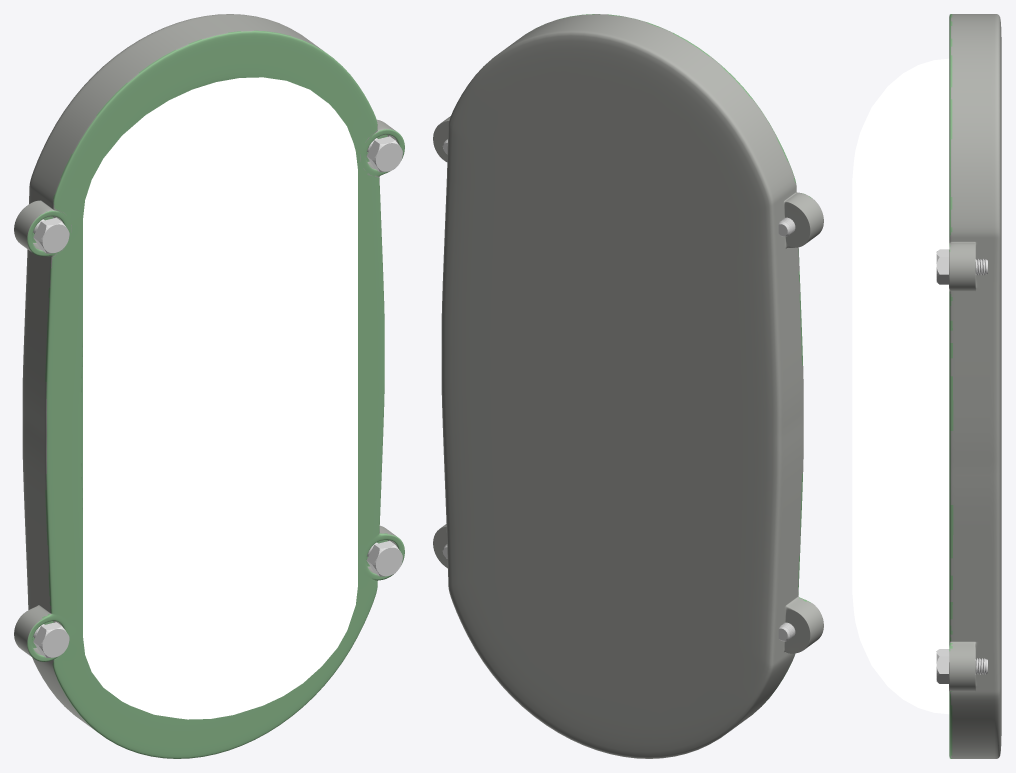
Rendered from wall_light_with_texture.glb.
The picture shows the model from 3 angles, left to right: view 1: azimuth 30°, elevation 25°; view 2: azimuth 150°, elevation 25°; view 3: azimuth 270°, elevation 25°; orthographic projection.
Parts seen in each view (by area): view 1: Roundcube_1, Circle_0, Bolt_5; view 2: Circle_0, Bolt_5; view 3: Roundcube_1, Circle_0, Bolt_5.
Boxes of the visible parts, x1,y1,x2,y2 form: Roundcube_1: (83, 77, 357, 719); Circle_0: (14, 14, 404, 758); Bolt_5: (33, 136, 402, 657); Circle_0: (433, 14, 823, 758); Bolt_5: (442, 139, 818, 641); Roundcube_1: (852, 58, 949, 714); Circle_0: (949, 14, 1001, 758); Bolt_5: (936, 249, 987, 683).
Size of the model in its own units: 2.22 by 4.04 by 0.7699.
